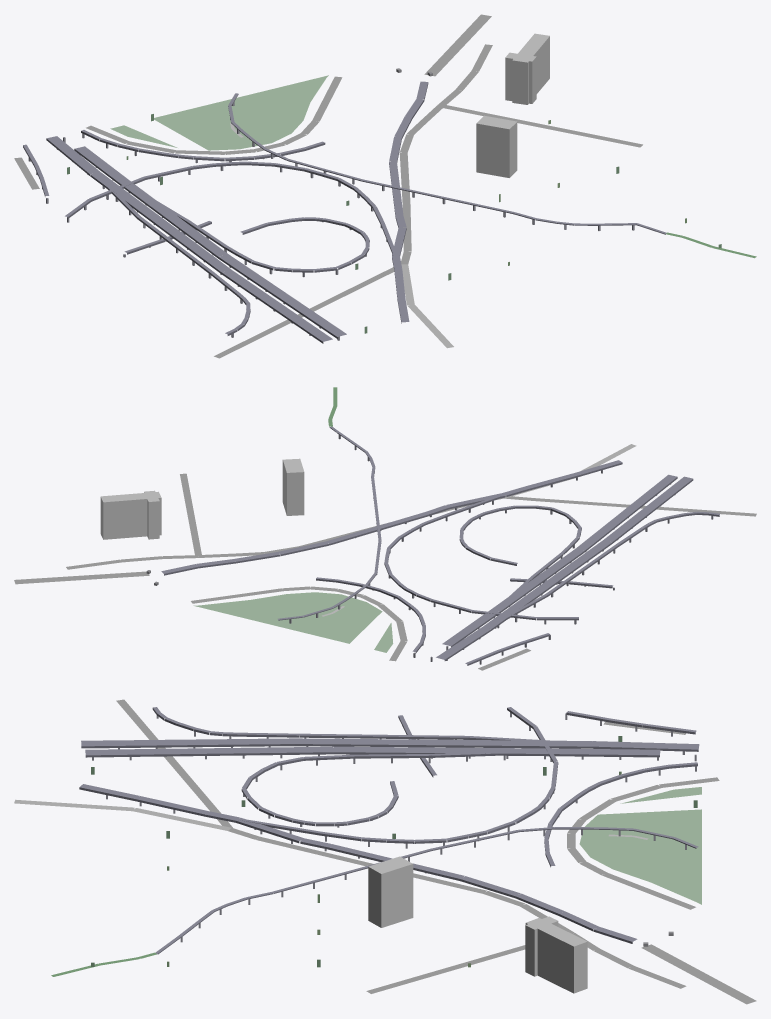
3 views of the same model, one above another, from view 1: azimuth 30°, elevation 25°; view 2: azimuth 150°, elevation 25°; view 3: azimuth 270°, elevation 25° (orthographic). The views are drawn at different scales.
Size of the model in its own units: 569 by 49.97 by 592.
